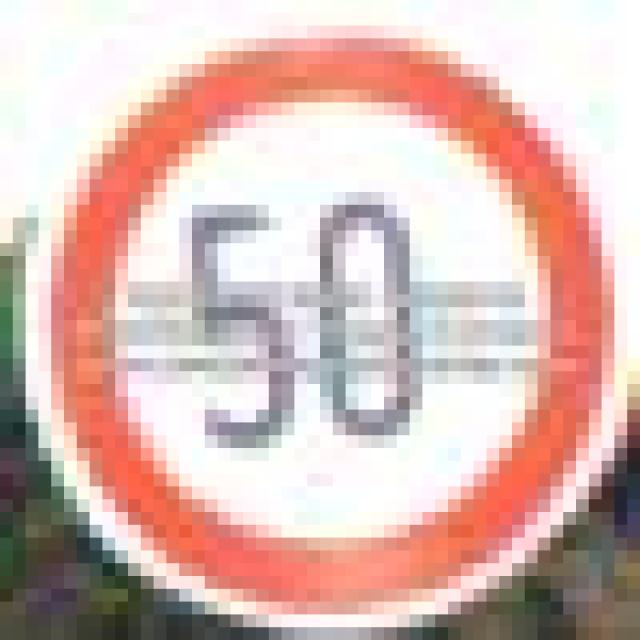speed_limit_30: (0, 12, 614, 614)
